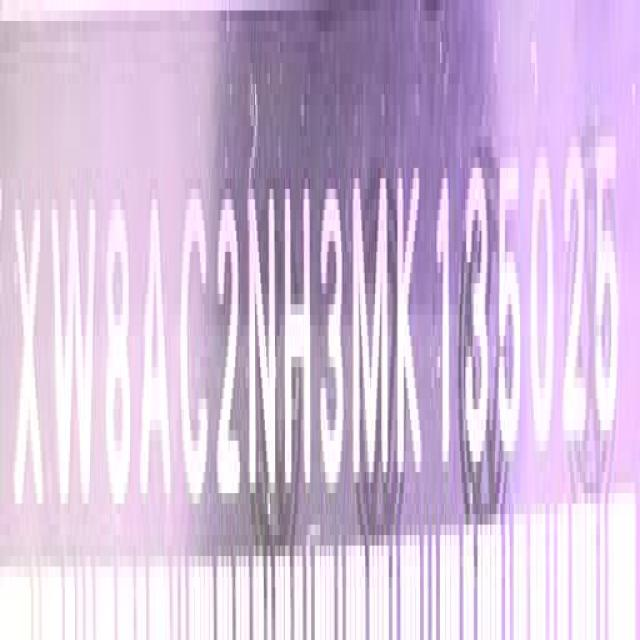0: (528, 150, 558, 463)
1: (431, 156, 454, 478)
2: (216, 190, 243, 514), (564, 138, 591, 455)
3: (320, 179, 345, 497), (465, 167, 490, 466)
5: (498, 148, 525, 465), (596, 126, 622, 449)
8: (107, 192, 132, 515)
A: (140, 188, 175, 516)
C: (180, 190, 212, 516)
H: (285, 180, 314, 503)
K: (397, 151, 422, 482)
M: (352, 156, 392, 494)
N: (248, 160, 278, 506)
W: (52, 190, 98, 523)
X: (15, 193, 45, 522)
